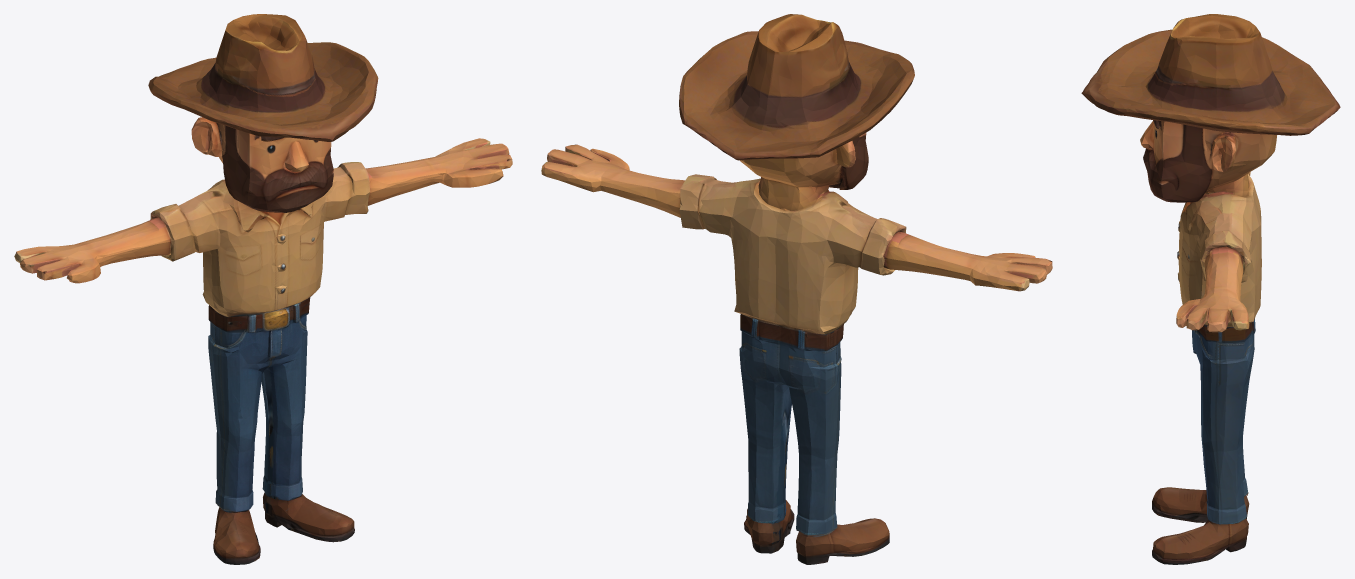
File: John_0422092340_texture.fbx
3 views of the same model, side by side, from view 1: azimuth 30°, elevation 25°; view 2: azimuth 150°, elevation 25°; view 3: azimuth 270°, elevation 25° (orthographic). The views are drawn at different scales.
Visible parts, largest first — view 1: temp; view 2: temp; view 3: temp.
Part boxes in pixels (<box>): temp: <box>14,14,512,564</box>; temp: <box>541,14,1052,564</box>; temp: <box>1081,14,1340,564</box>.
Size of the model in its own units: 200 by 200 by 92.38.
1 material, 1 textured.
